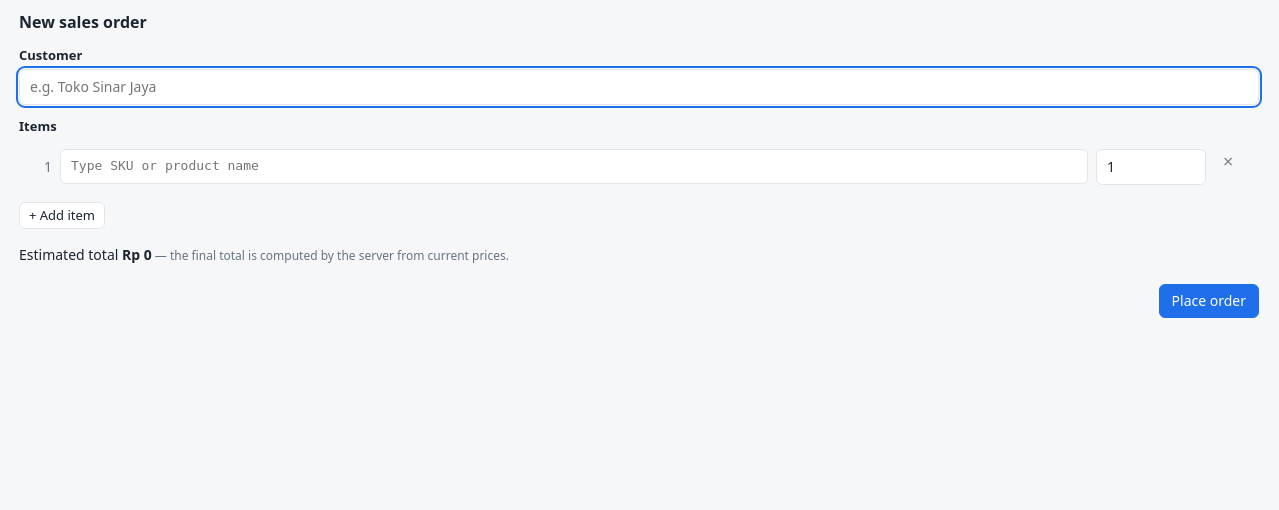
Test: CreateOrderForm › puts a 400 field error for items[1].qty on line 2
Type "Toko Makmur" into the field labelled "Customer" at (639, 87), box [19, 69, 1259, 105]
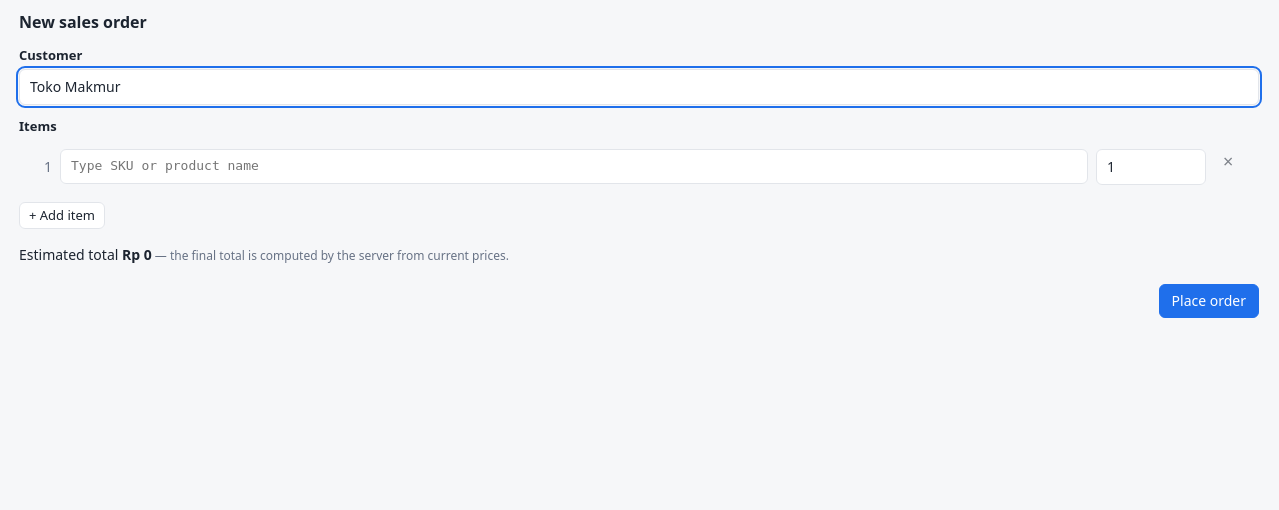
Type "BRG-001" into the field named "Item 1 SKU" at (574, 167), box [60, 149, 1088, 184]
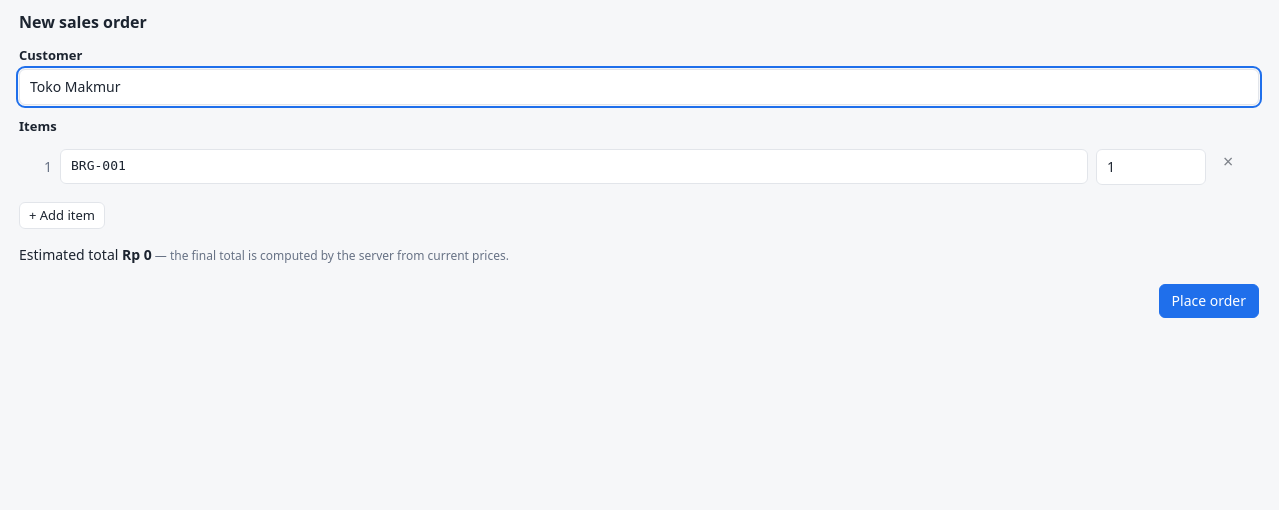
Click the button "+ Add item" at (62, 216), box [19, 202, 105, 229]
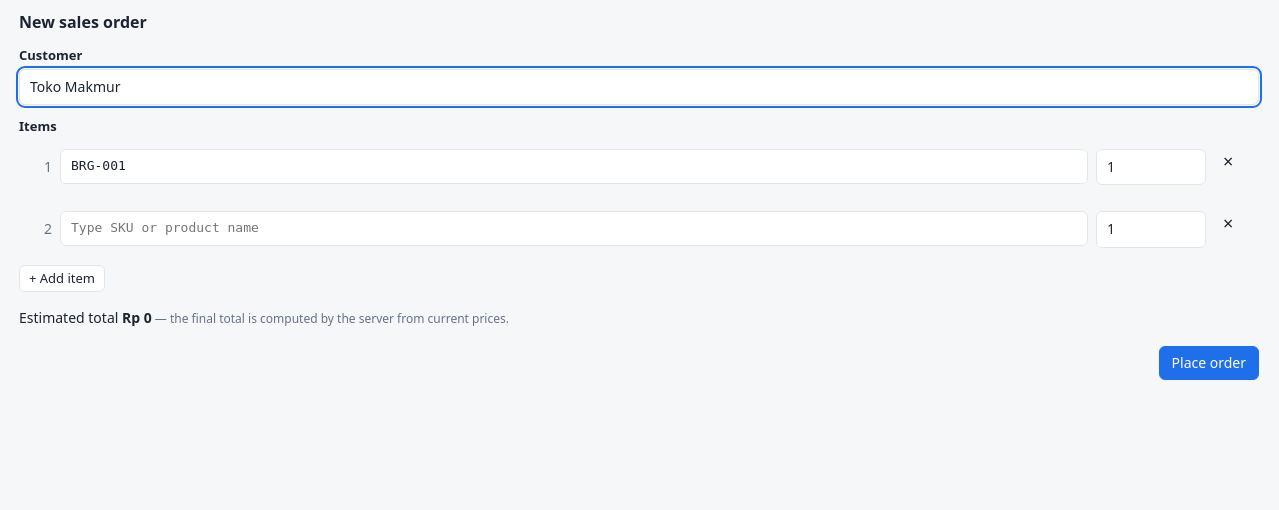
Type "BRG-005" into the field named "Item 2 SKU" at (574, 229), box [60, 212, 1088, 246]
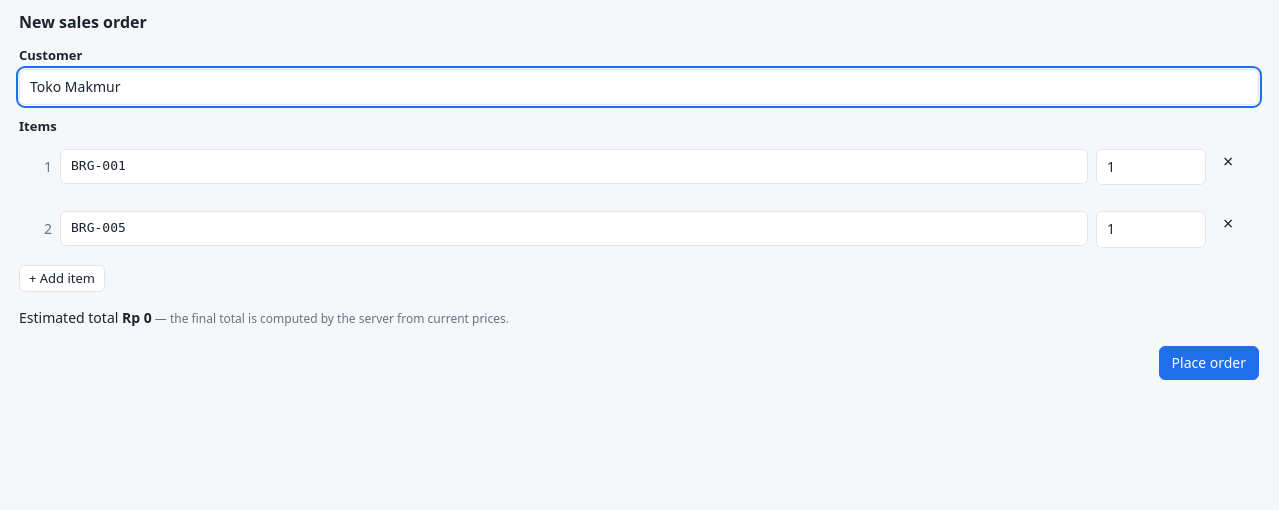
Replace the text in the field named "Item 2 quantity" with "2" at (1151, 230), box [1096, 212, 1206, 248]
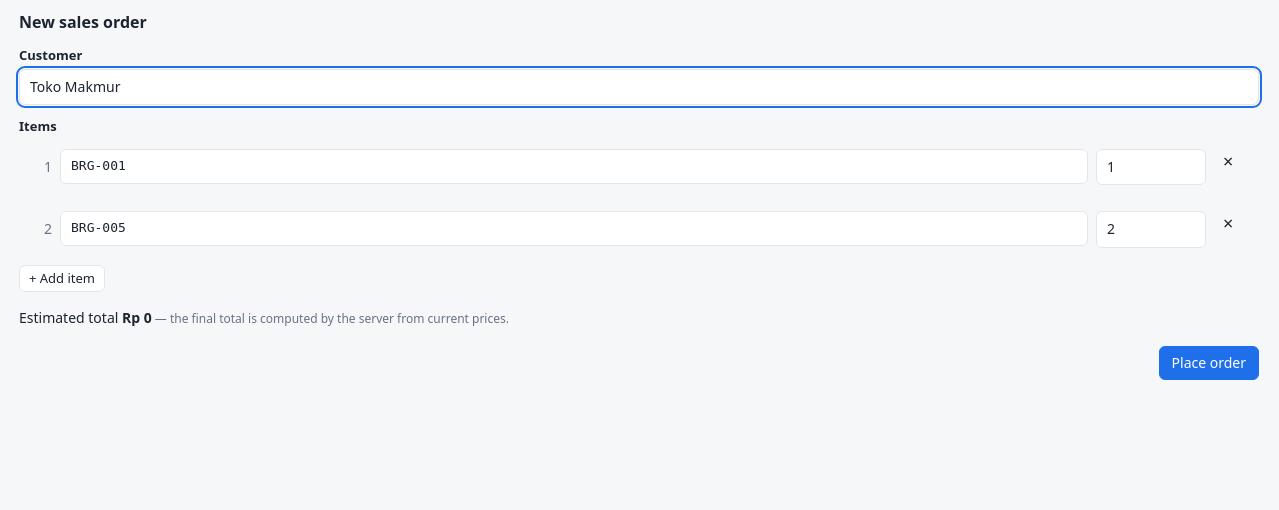
Click the button "Place order" at (1209, 363), box [1158, 346, 1259, 380]
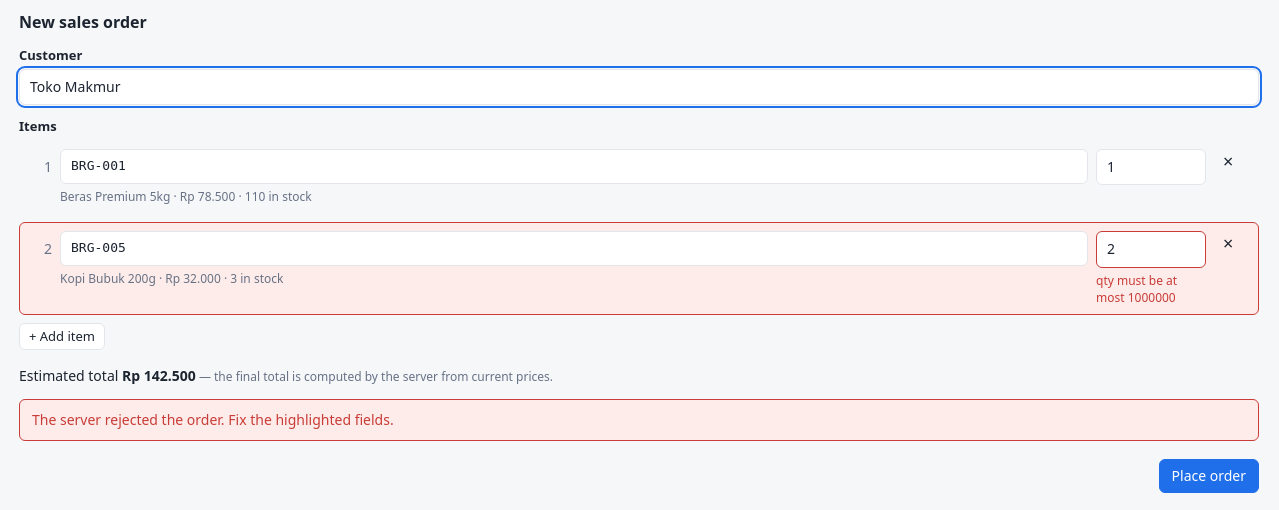
Check: the message shows "Fix the highlighted fields", box [32, 410, 394, 429]
